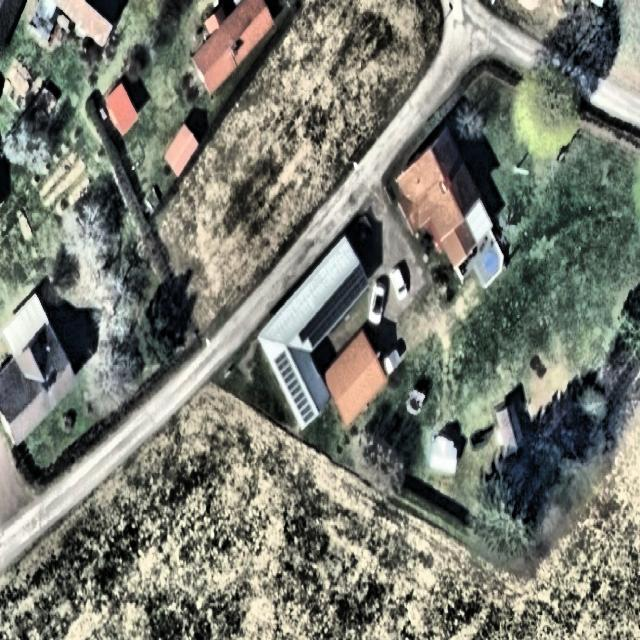roof_pv: (296, 296, 327, 349), (326, 275, 346, 328), (347, 262, 368, 309), (292, 396, 319, 424), (274, 348, 297, 376), (282, 374, 310, 396)
